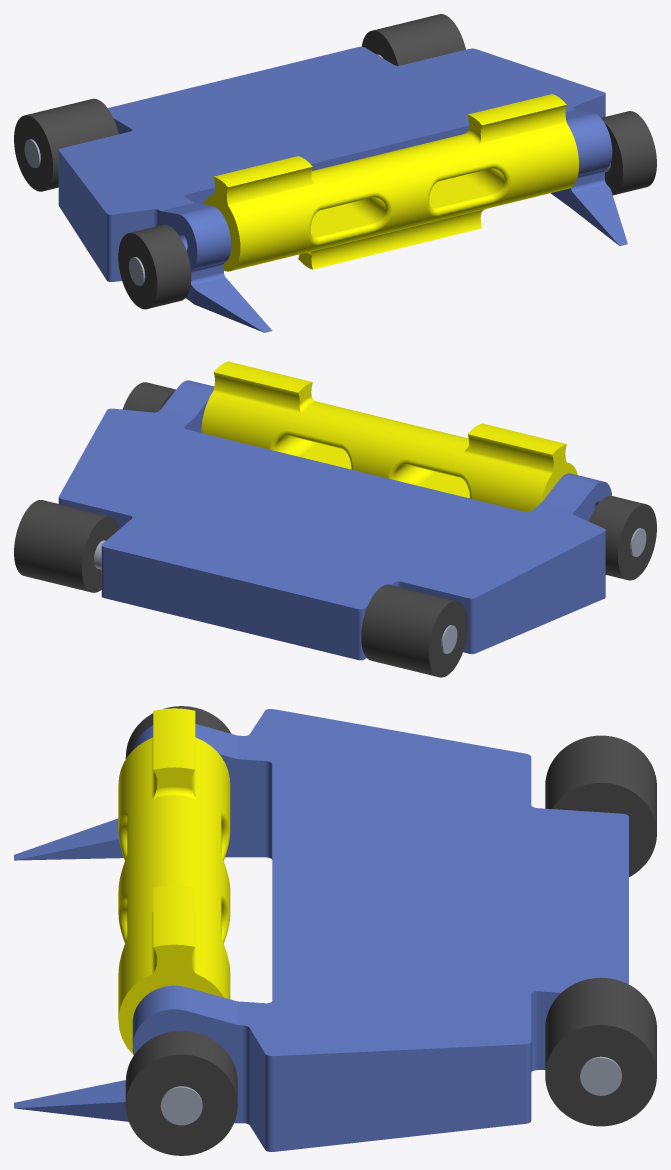
File: Manta Assm FBX.fbx
3 views of the same model, one above another, from view 1: azimuth 30°, elevation 25°; view 2: azimuth 150°, elevation 25°; view 3: azimuth 270°, elevation 25° (orthographic). The views are drawn at different scales.
Parts seen in each view (by area): view 1: Body1 (×3), Body3, Body4, Body2; view 2: Body1 (×3), Body3, Body2, Body4; view 3: Body1 (×3), Body2, Body3, Body4.
Part boxes in pixels (left/top/right/bottom): Body1 (×3): left=58, top=46, right=656, bottom=332; Body3: left=14, top=98, right=118, bottom=191; Body4: left=118, top=224, right=191, bottom=309; Body2: left=361, top=14, right=465, bottom=65; Body1 (×3): left=58, top=361, right=611, bottom=660; Body3: left=361, top=584, right=467, bottom=677; Body2: left=14, top=500, right=119, bottom=592; Body4: left=589, top=496, right=656, bottom=580; Body1 (×3): left=14, top=708, right=628, bottom=1155; Body2: left=545, top=977, right=656, bottom=1126; Body3: left=545, top=735, right=656, bottom=876; Body4: left=125, top=706, right=231, bottom=759.
Size of the model in its own units: 29.7 by 6.12 by 23.
